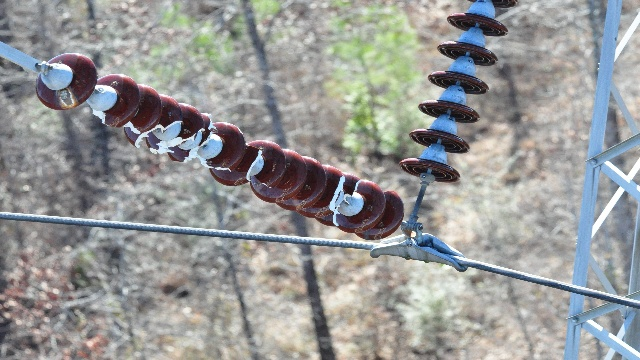broken_local: (134, 110, 214, 162), (324, 172, 366, 226), (91, 106, 142, 137), (242, 146, 266, 182), (198, 153, 233, 177)
insulator_unspecified: (38, 54, 405, 238), (400, 0, 515, 183)
pollution_flashover_local: (55, 86, 77, 108)
